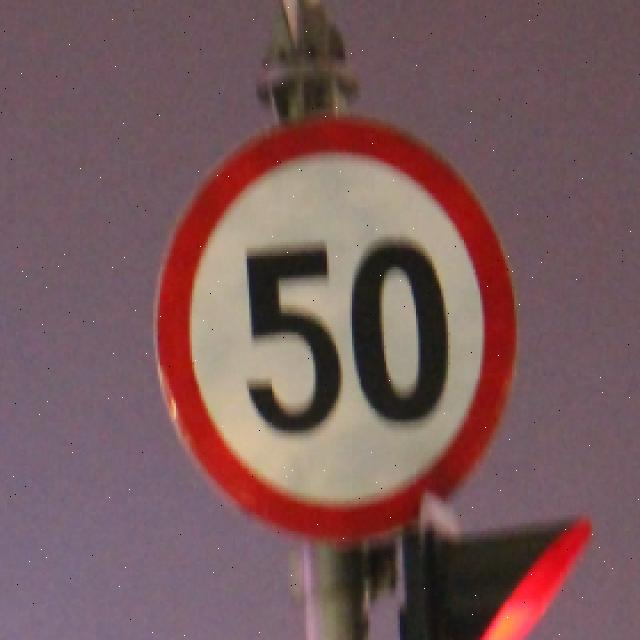speed limit 50: (153, 110, 518, 540)
